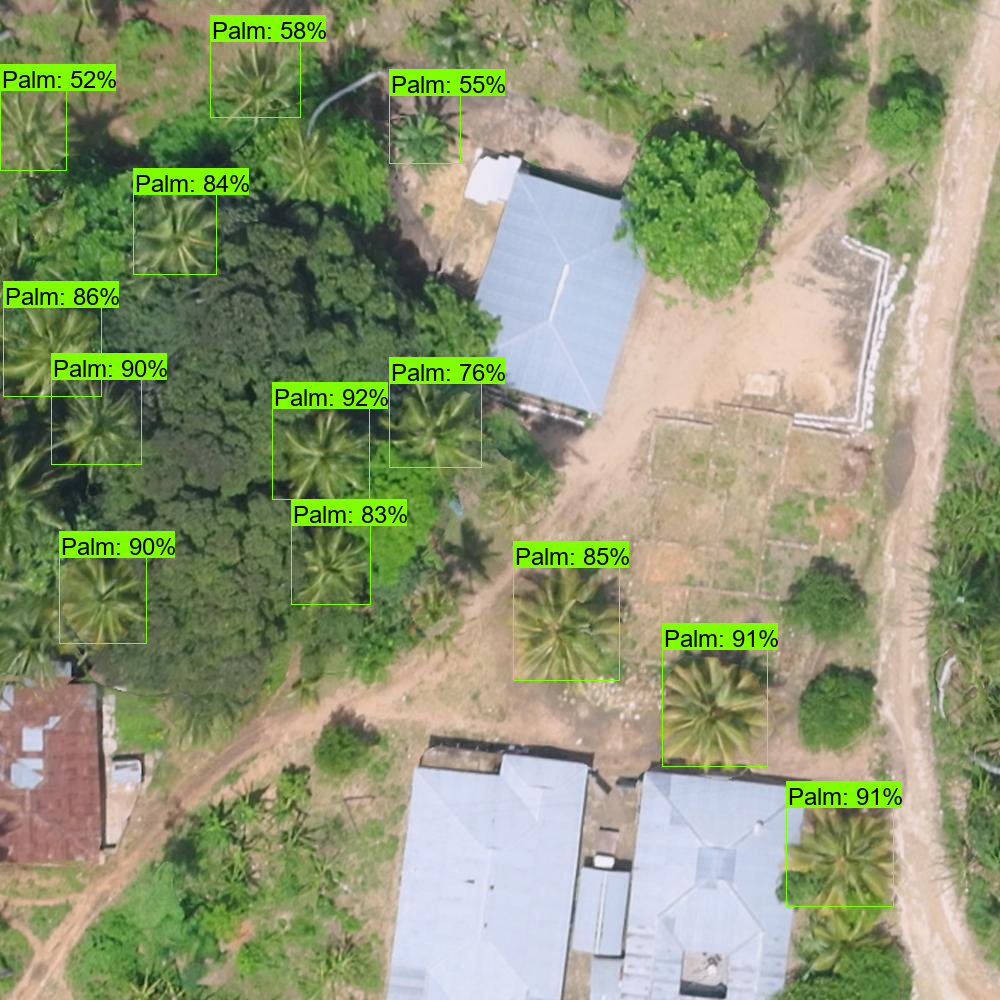Palm: (504, 571, 621, 678), (788, 805, 902, 913), (660, 661, 769, 759), (383, 384, 491, 479), (2, 301, 105, 395), (53, 551, 150, 644), (1, 87, 88, 173), (275, 414, 366, 495), (209, 45, 296, 124), (59, 389, 142, 469), (137, 195, 215, 273), (261, 131, 345, 200), (299, 527, 374, 601), (805, 911, 879, 976), (482, 452, 553, 517)
